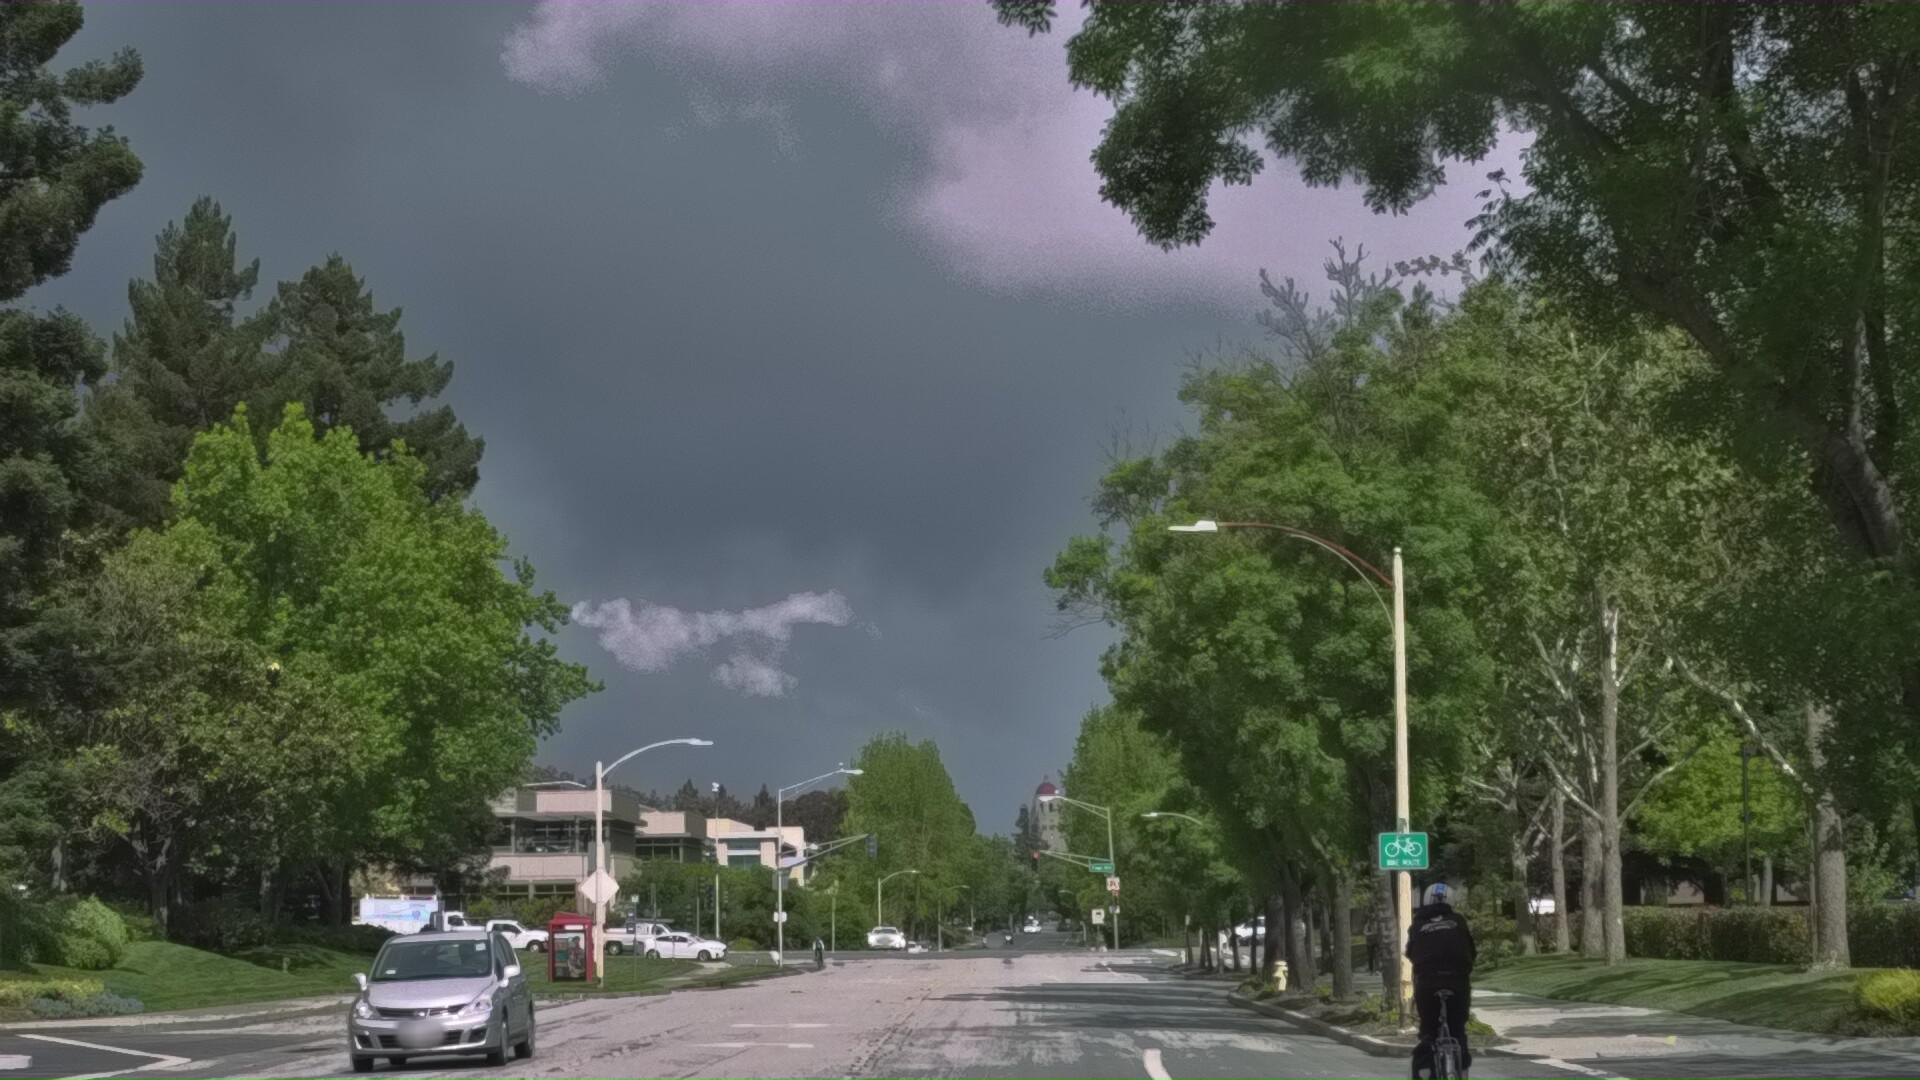bicycle: (1370, 956, 1524, 1080)
car: (324, 1006, 533, 1080)
